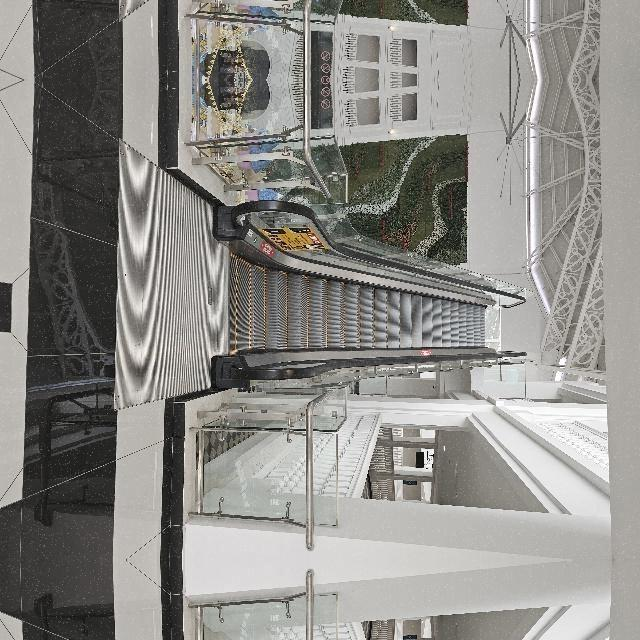stair: (332, 230, 433, 492), (333, 628, 434, 640)
